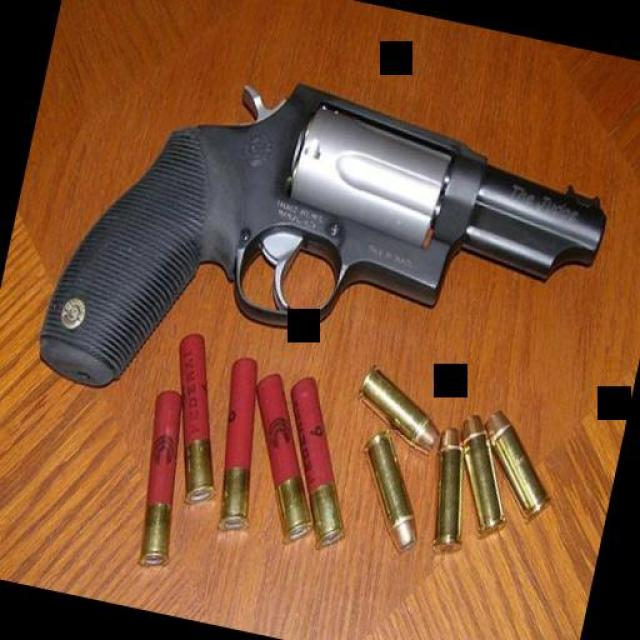gun: (26, 35, 622, 484)
